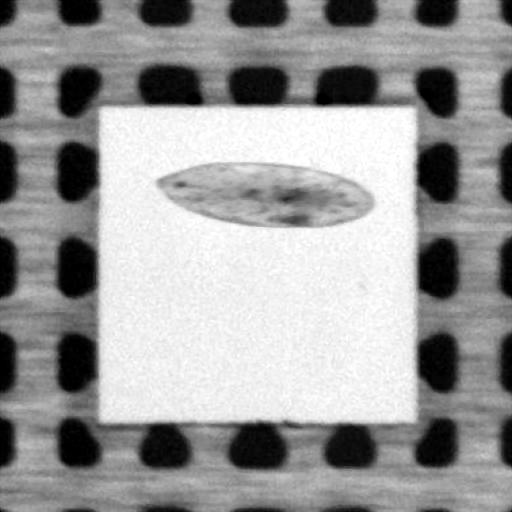DIE_INK: (139, 154, 388, 233)
